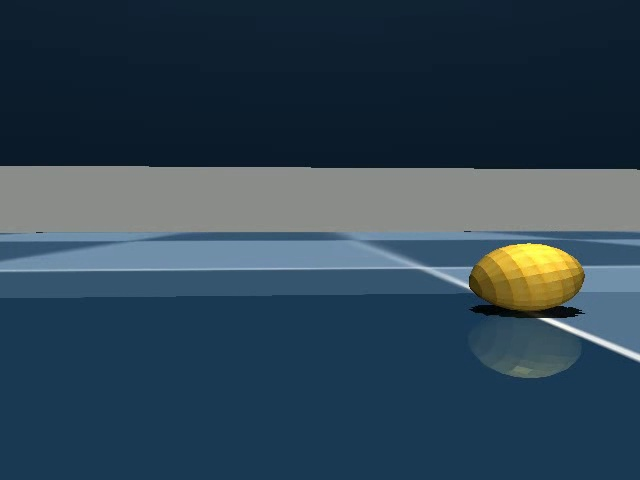lemon: (463, 237, 589, 325)
